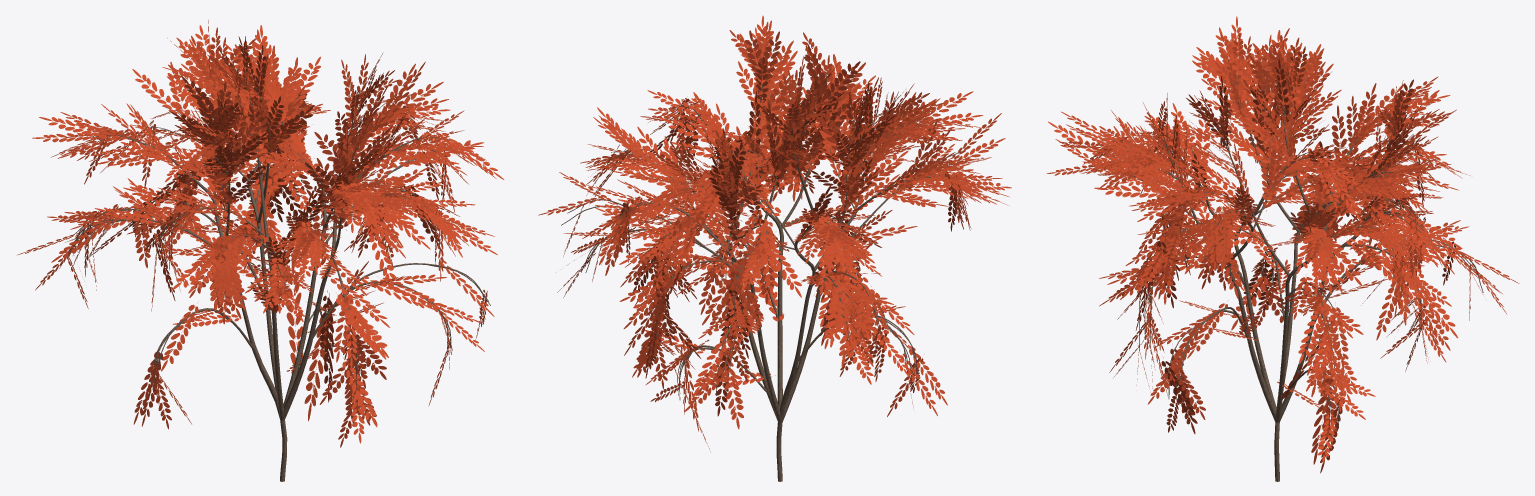
The model's file is garden.glb.
The picture shows the model from 3 angles, left to right: view 1: azimuth 30°, elevation 25°; view 2: azimuth 150°, elevation 25°; view 3: azimuth 270°, elevation 25°; orthographic projection. The views are drawn at different scales.
Parts seen in each view (by area): view 1: SM_Tree_15; view 2: SM_Tree_15; view 3: SM_Tree_15.
Boxes of the visible parts, box(x1,y1,x2,y2) form: SM_Tree_15: box(17, 20, 504, 481); SM_Tree_15: box(538, 15, 1011, 481); SM_Tree_15: box(1046, 16, 1519, 481).
Bounding box in the file's own units: 0.5896 × 0.6142 × 0.6176.
Materials: 1 (1 with a texture image).
